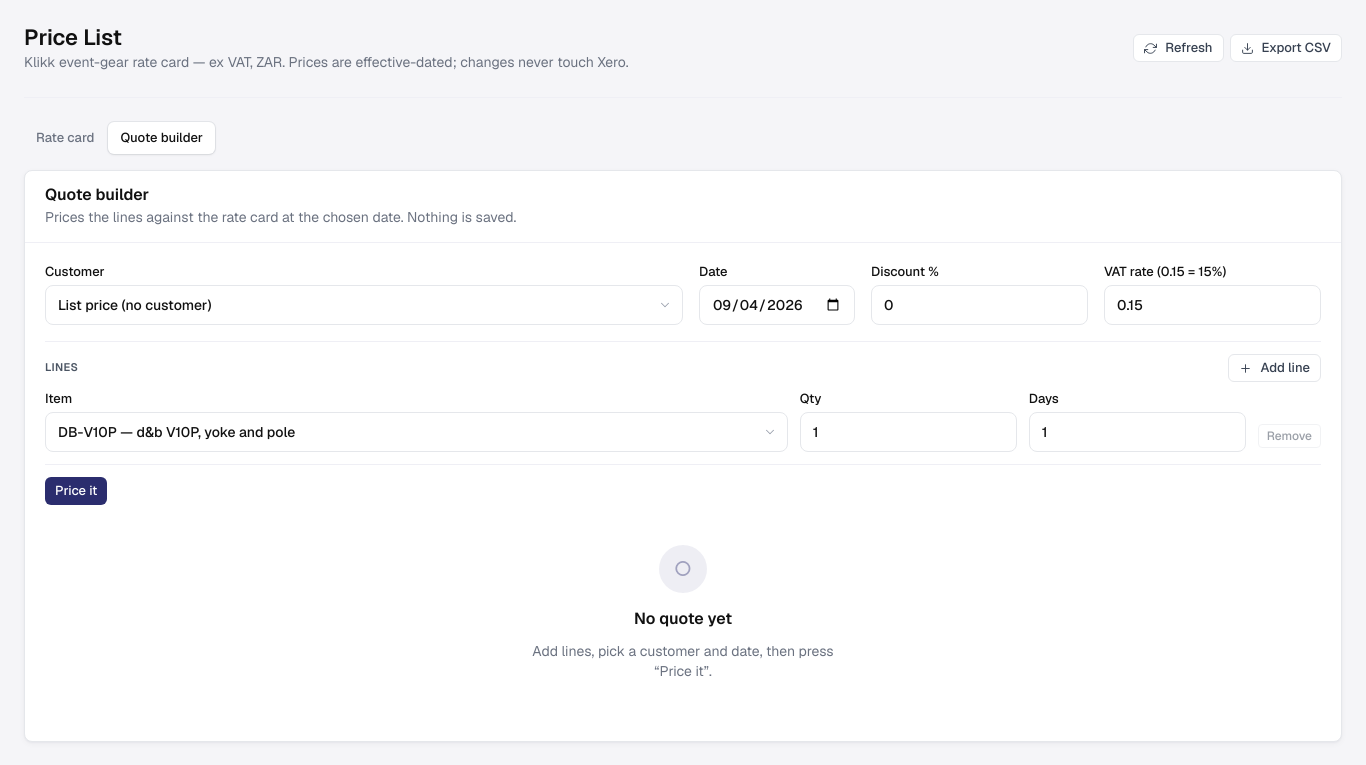
Test: Pricelist — quote builder › renders a historical 14% VAT rate as "VAT 14%" (no floating-point tail)
This screenshot has width=1366, height=765.
Click the button "Price it" at x=76, y=491, box 45,477 -> 107,505
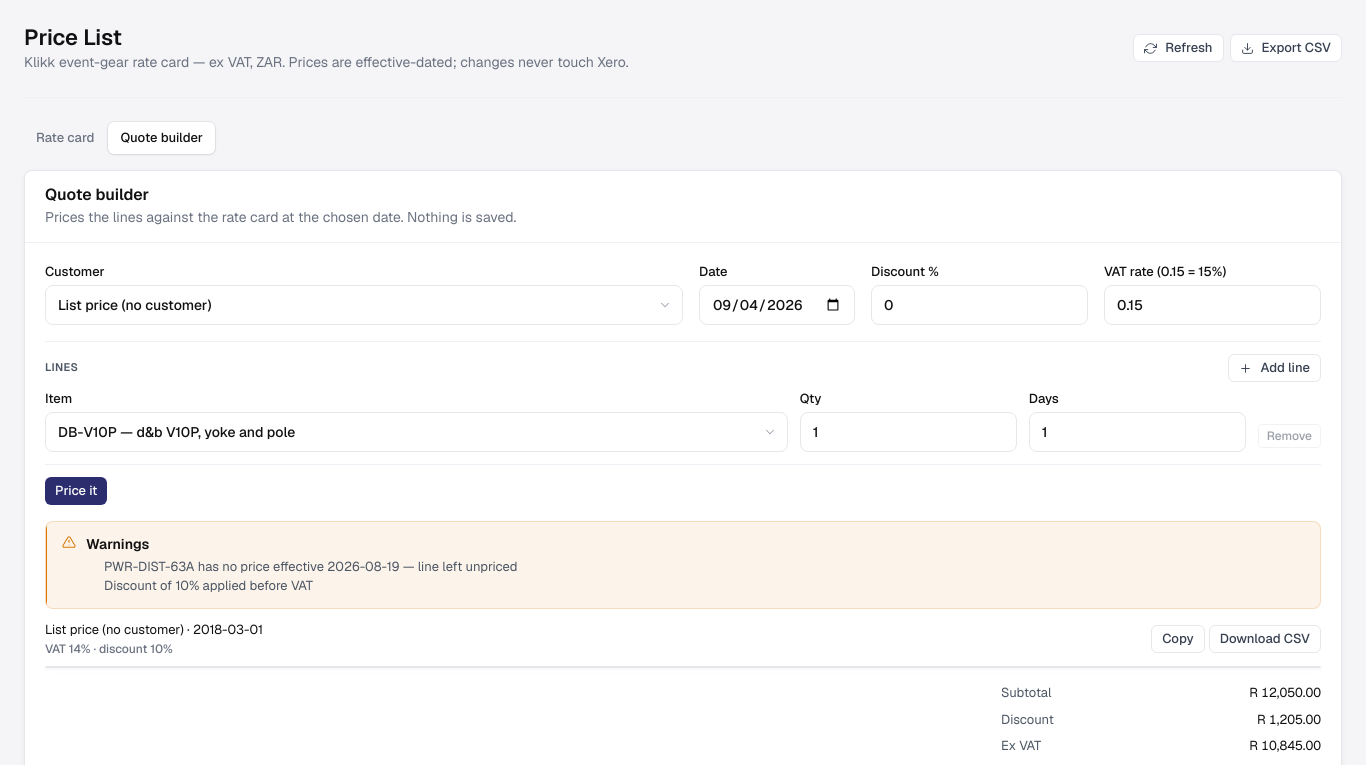
Check: the text "VAT 14%" is shown, box 45,642 -> 173,658
